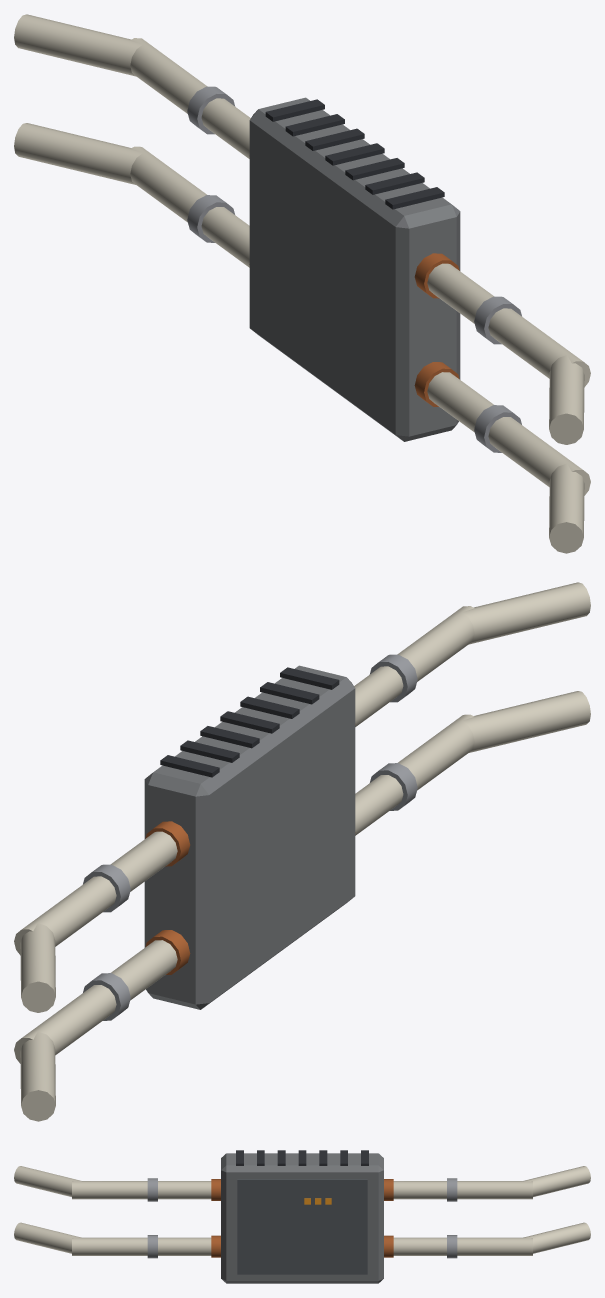
File: er5_inverter.obj
The picture shows the model from 3 angles, top to bottom: view 1: azimuth 30°, elevation 25°; view 2: azimuth 150°, elevation 25°; view 3: azimuth 270°, elevation 25°; orthographic projection. The views are drawn at different scales.
Parts seen in each view (by area): view 1: er5_inverter; view 2: er5_inverter; view 3: er5_inverter.
Part boxes in pixels (bbox=[...]): er5_inverter: bbox=[14, 14, 590, 553]; er5_inverter: bbox=[14, 582, 590, 1121]; er5_inverter: bbox=[14, 1150, 590, 1283].
Bounding box in the file's own units: 0.3545 × 0.714 × 3.1.
